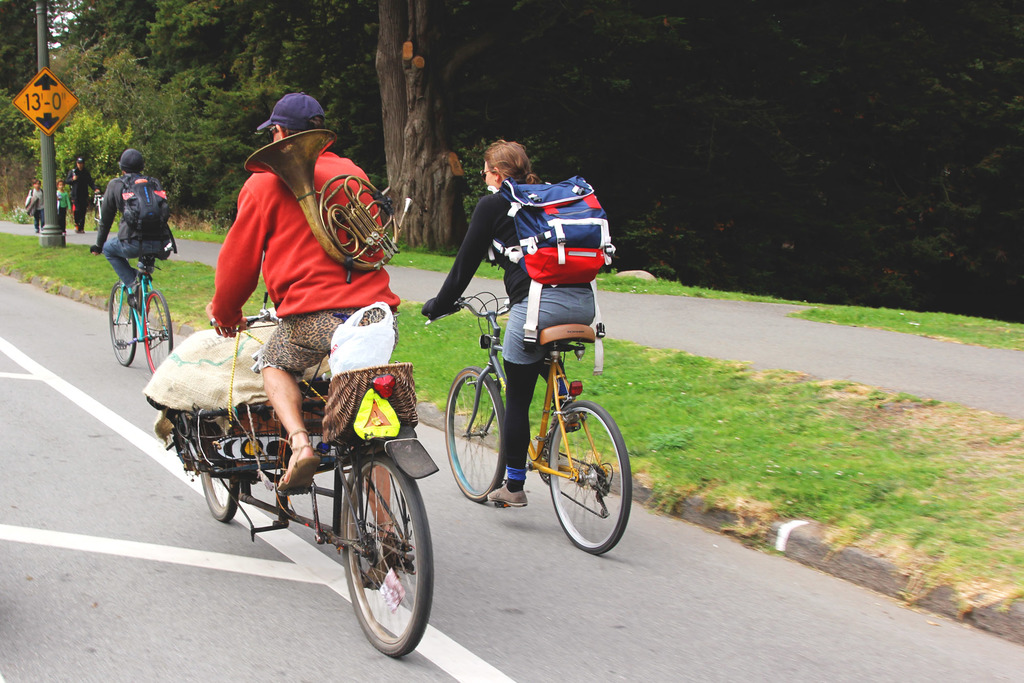Bike_away: (193, 289, 450, 683), (422, 305, 652, 573)
